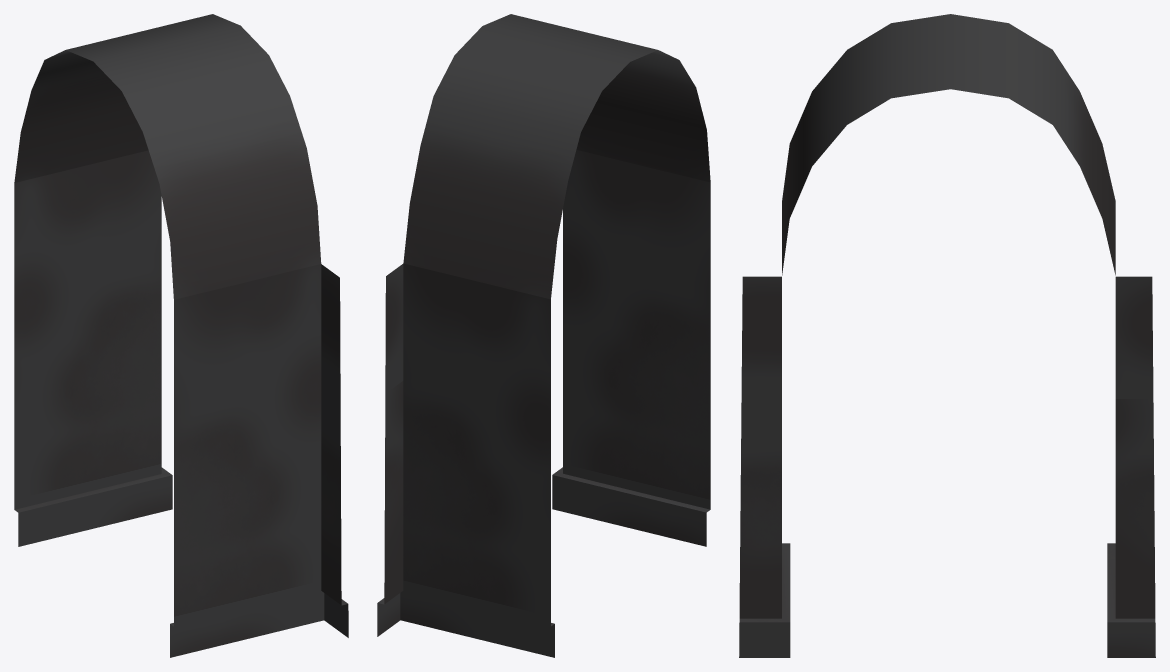
The model's file is SM_Arched_wall.fbx.
3 renders of one model, left to right at view 1: azimuth 30°, elevation 25°; view 2: azimuth 150°, elevation 25°; view 3: azimuth 270°, elevation 25°, orthographic. The views are drawn at different scales.
Parts seen in each view (by area): view 1: Arched_wall; view 2: Arched_wall; view 3: Arched_wall.
Boxes of the visible parts, x1,y1,x2,y2 form: Arched_wall: (14,14,348,657); Arched_wall: (377,14,710,657); Arched_wall: (739,14,1155,657).
Bounding box in the file's own units: 134 × 449 × 300.
